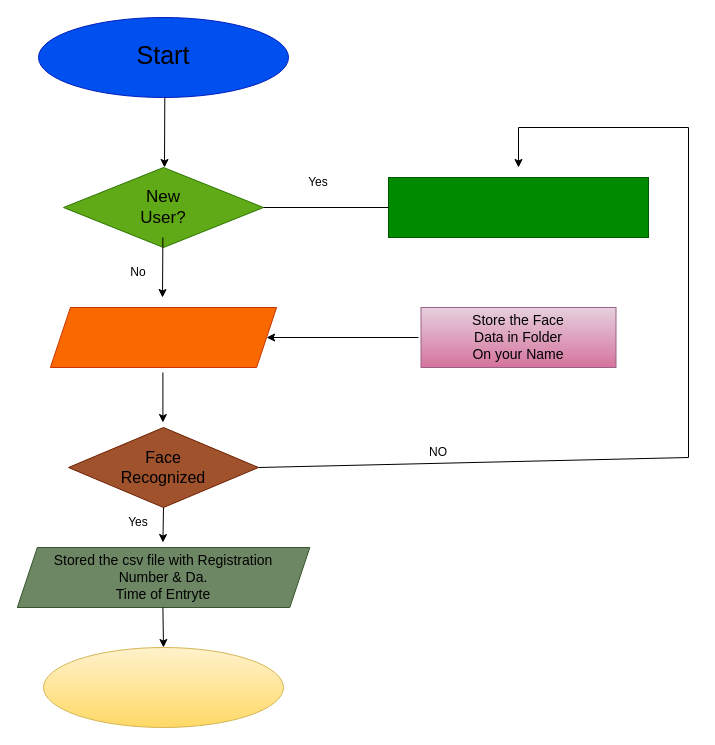
This 715x745 diagram has some shape labels left out. Here are the shapes that lost their labels. From the top down, the centre of each, then its label:
(518,207): Give your Photography
(163,337): Recognize The Face
(163,687): End
